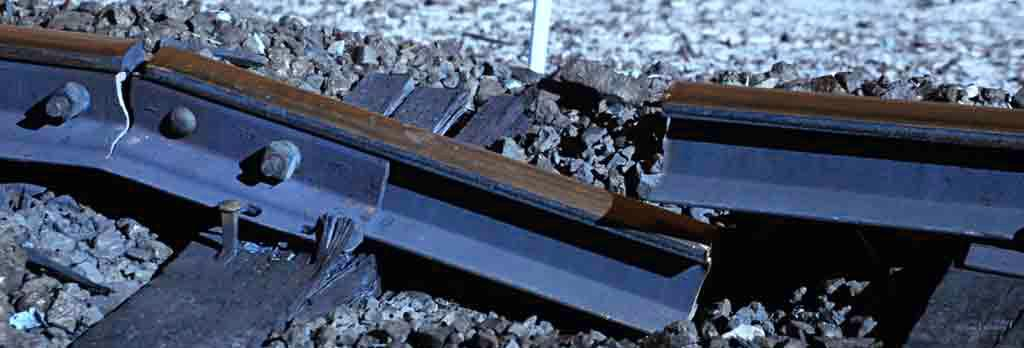duan lie: (93, 33, 189, 175), (621, 78, 702, 202)
